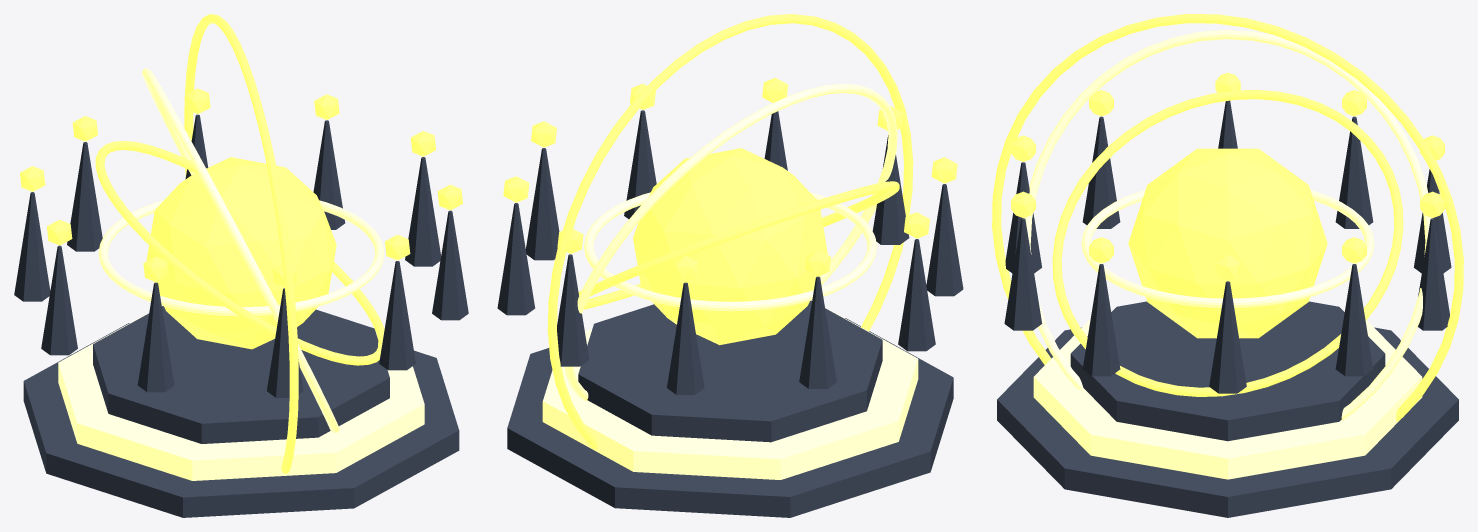
File: gpu-blender-v15.glb
3 views of the same model, side by side, from view 1: azimuth 30°, elevation 25°; view 2: azimuth 150°, elevation 25°; view 3: azimuth 270°, elevation 25° (orthographic). The views are drawn at different scales.
Parts seen in each view (by area): view 1: Cylinder.002, SovereignCore_pod-margin-sentinel, Cylinder, Cylinder.001, Torus.003, Torus.001, Torus, Torus.002, Cone.006, Cone.009, Cone.005, Cone.008 (+12 smaller); view 2: Cylinder.002, SovereignCore_pod-margin-sentinel, Cylinder, Cylinder.001, Torus.003, Torus.002, Torus, Torus.001, Cone.005, Cone.001, Cone.006, Cone.003 (+12 smaller); view 3: SovereignCore_pod-margin-sentinel, Cylinder.002, Cylinder, Cylinder.001, Torus.003, Torus.001, Torus.002, Torus, Cone.001, Cone.009, Cone, Cone.008 (+7 smaller).
Part boxes in pixels (box(x1,y1,x2,y2)): Cylinder.002: box(93, 306, 389, 443); SovereignCore_pod-margin-sentinel: box(146, 157, 336, 349); Cylinder: box(23, 323, 459, 517); Cylinder.001: box(58, 314, 424, 480); Torus.003: box(184, 14, 298, 473); Torus.001: box(95, 141, 384, 365); Torus: box(98, 200, 384, 316); Torus.002: box(142, 68, 339, 432); Cone.006: box(137, 282, 174, 392); Cone.009: box(432, 210, 468, 320); Cone.005: box(41, 245, 77, 355); Cone.008: box(379, 261, 415, 370); Cylinder.002: box(578, 300, 882, 442); SovereignCore_pod-margin-sentinel: box(633, 148, 827, 345); Cylinder: box(507, 318, 953, 517); Cylinder.001: box(542, 308, 918, 479); Torus.003: box(547, 14, 913, 449); Torus.002: box(564, 83, 897, 400); Torus: box(584, 192, 876, 311); Torus.001: box(578, 181, 899, 309); Cone.005: box(898, 239, 935, 351); Cone.001: box(497, 203, 535, 315); Cone.006: box(926, 184, 963, 296); Cone.003: box(667, 282, 704, 394); SovereignCore_pod-margin-sentinel: box(1128, 148, 1327, 338); Cylinder.002: box(1070, 301, 1385, 441); Cylinder: box(997, 327, 1458, 517); Cylinder.001: box(1033, 319, 1422, 479); Torus.003: box(992, 14, 1463, 421); Torus.001: box(1052, 89, 1403, 396); Torus.002: box(1024, 30, 1431, 420); Torus: box(1081, 190, 1374, 307); Cone.001: box(1335, 264, 1373, 376); Cone.009: box(1082, 264, 1120, 376); Cone: box(1209, 281, 1246, 393); Cone.008: box(1004, 218, 1042, 330).
Size of the model in its own units: 4.41 by 4.7 by 4.49.
